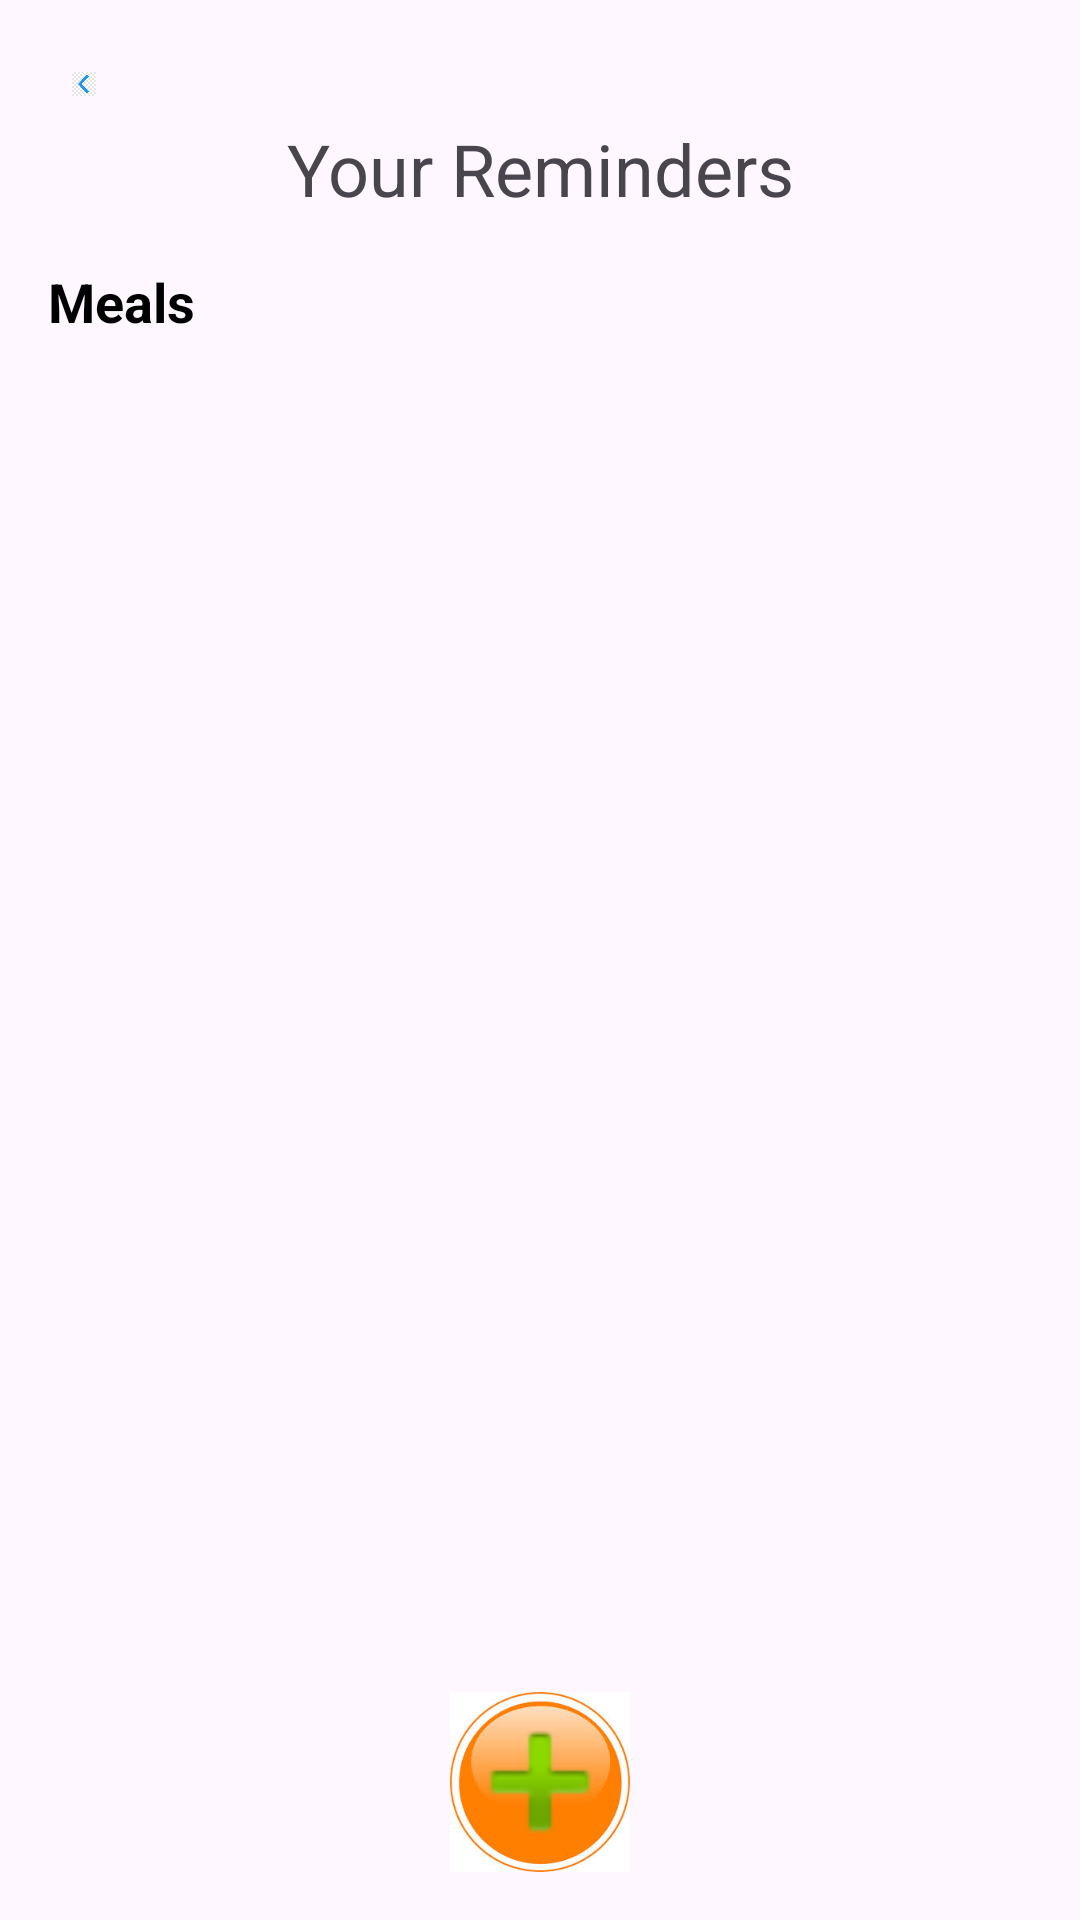

Point at icon controls on the screen. Image size 1080x1920, points as point (x, y).
Add Reminder: point (540, 1782)
Back: point (84, 84)
